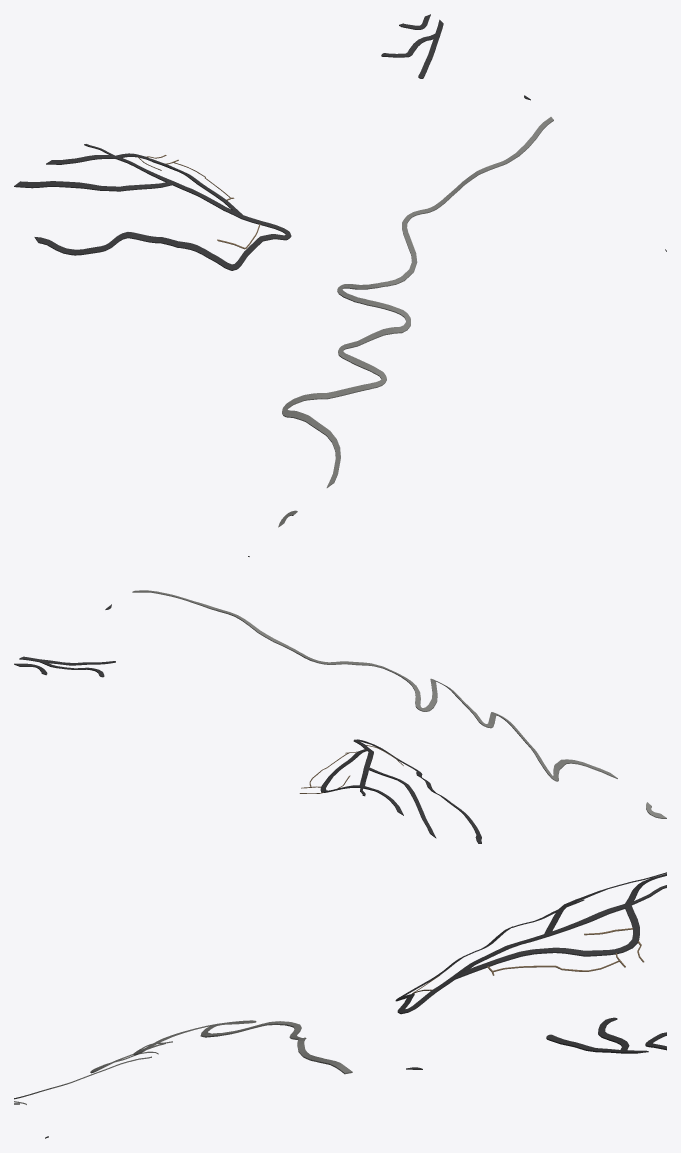
The model's file is 16-54712-29736.25789abe.glb.
The picture shows the model from 3 angles, top to bottom: view 1: azimuth 30°, elevation 25°; view 2: azimuth 150°, elevation 25°; view 3: azimuth 270°, elevation 25°; orthographic projection. The views are drawn at different scales.
Bounding box in the file's own units: 587 × 309 × 583.
